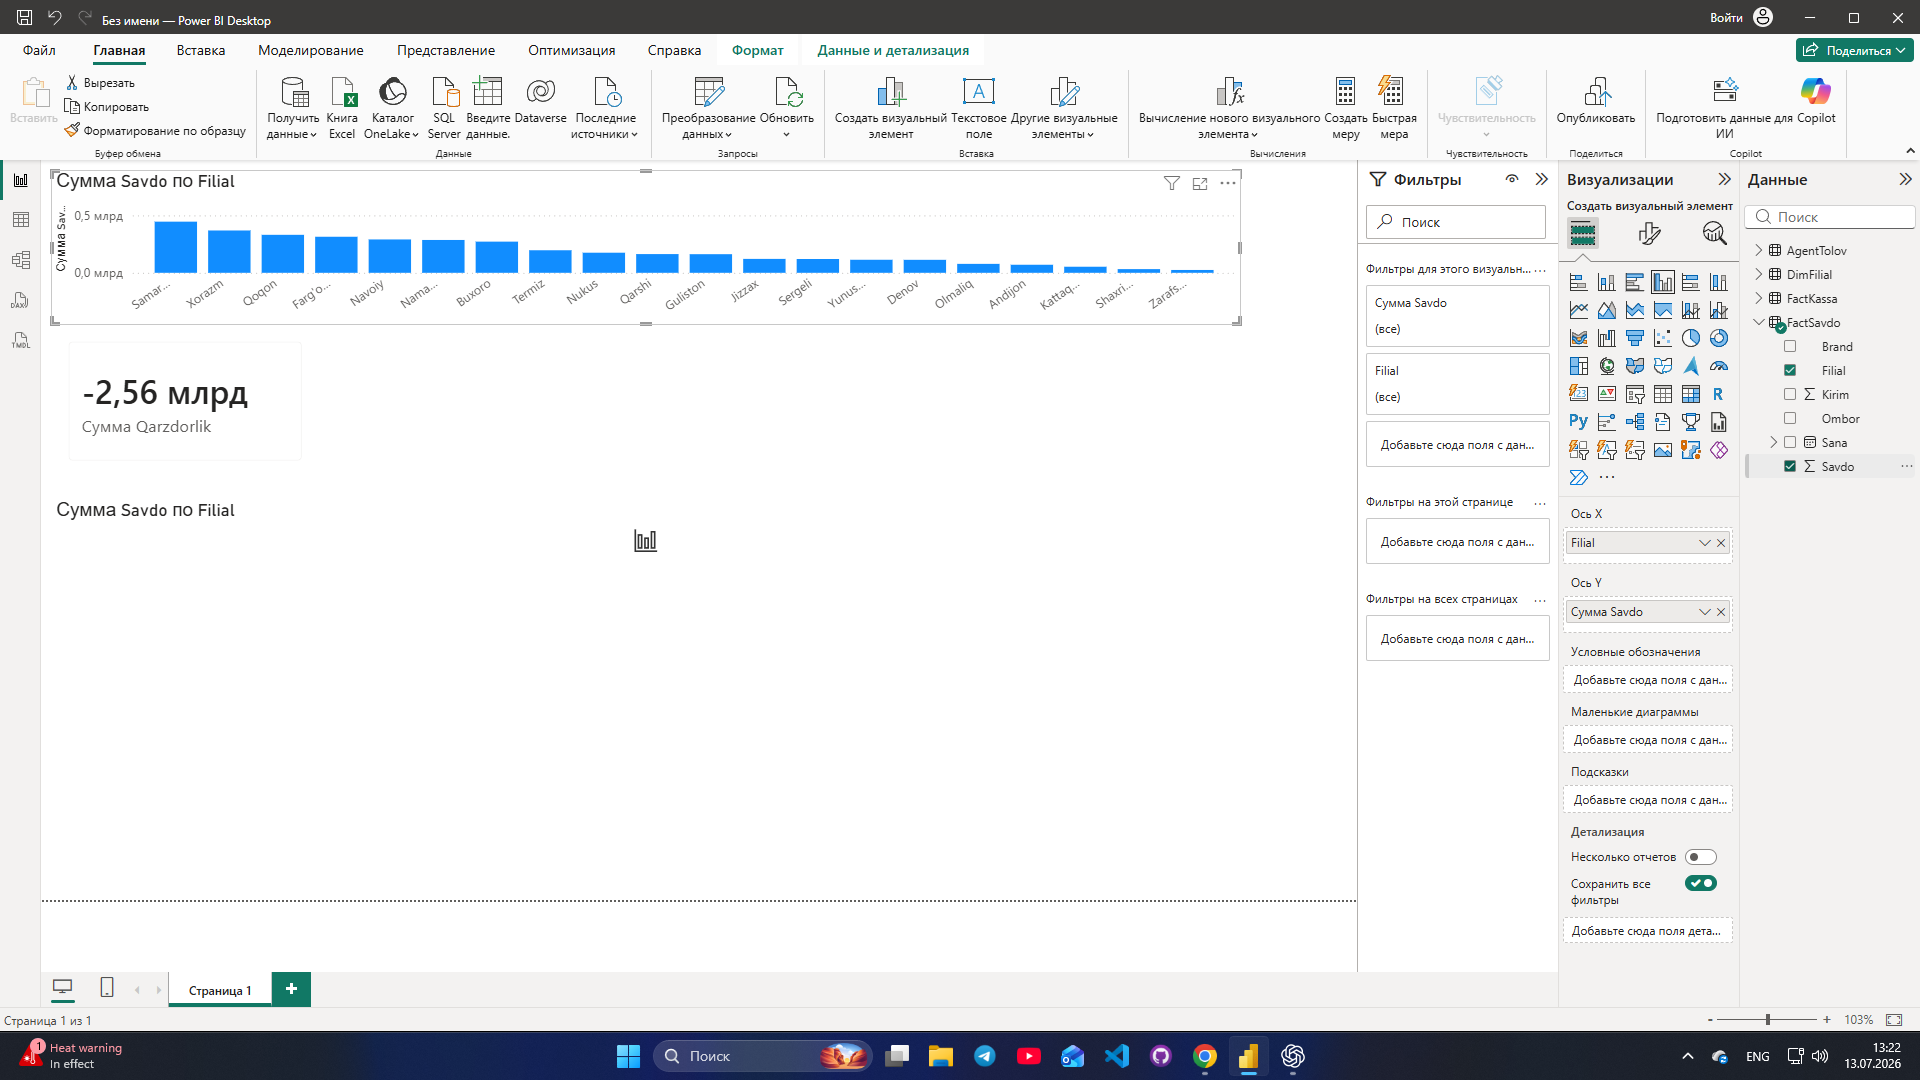

What the dashboard file says about the page in this screenshot:
{"tool":"powerbi","page":{"name":"Страница 1","canvas":[1280,720],"ordinal":0},"visuals":[{"type":"cardVisual","fields":{"Data":["Sum(FactSavdo.Savdo)"]},"box":[9.7,0,260.7,125.5],"z":0},{"type":"cardVisual","fields":{"Data":["Sum(FactKassa.Qarzdorlik)"]},"box":[10,159.5,261,150],"z":2},{"type":"clusteredColumnChart","fields":{"Category":["FactSavdo.Filial"],"Y":["Sum(FactSavdo.Savdo)"]},"box":[10,10,1157,150],"z":3}]}

Visuals, with their boxes on the page's 1280x720 design canvas (x1, y1, x2, y2). These are canvas units, not pixel positions in the 1920x1080 screenshot, which may show the page scaled, cropped or inside an application window:
cardVisual - Sum(FactSavdo.Savdo): 10/0/270/126
cardVisual - Sum(FactKassa.Qarzdorlik): 10/160/271/310
clusteredColumnChart - FactSavdo.Filial x Sum(FactSavdo.Savdo): 10/10/1167/160
